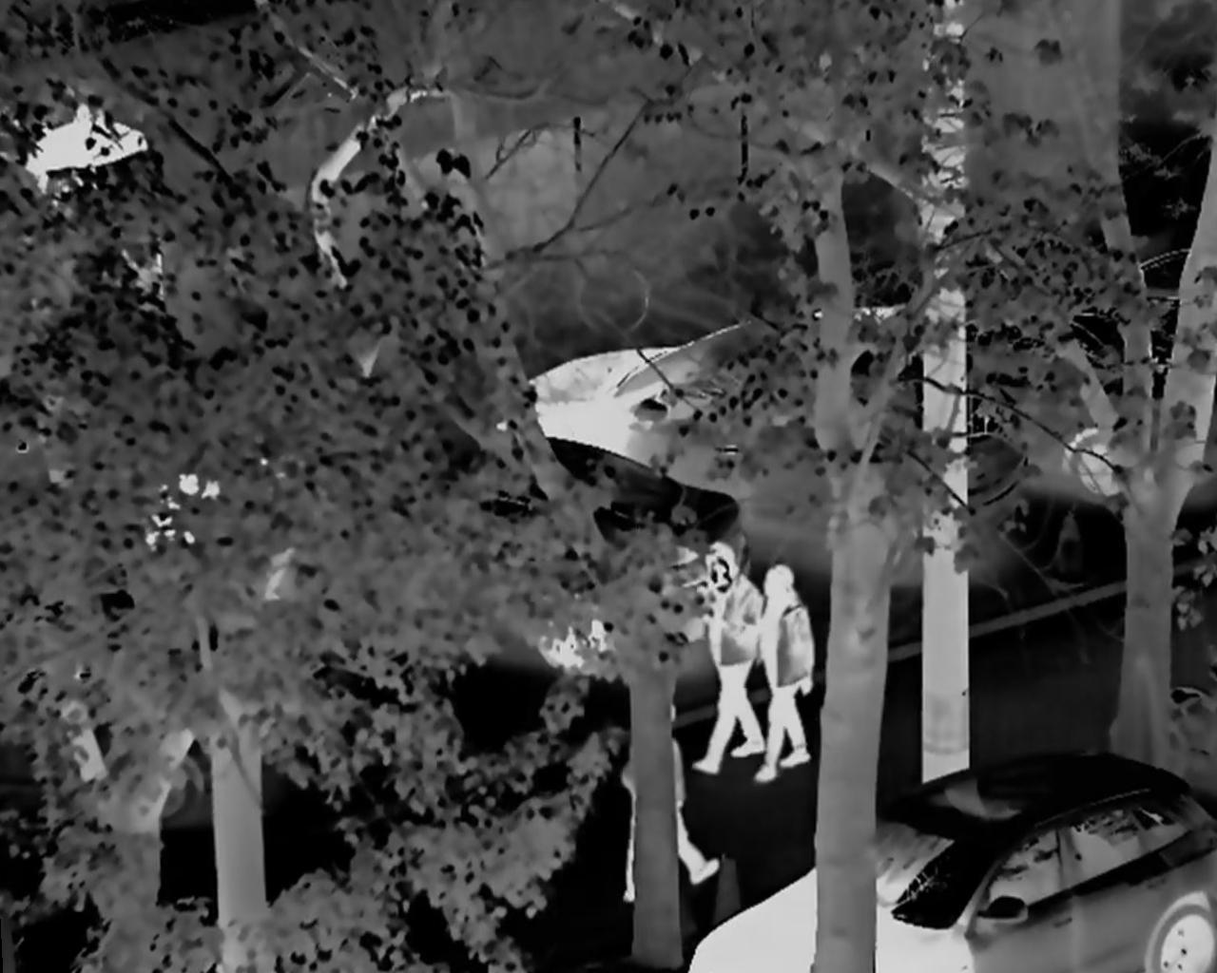person: (622, 698, 719, 905), (696, 541, 767, 772), (748, 563, 817, 779)
